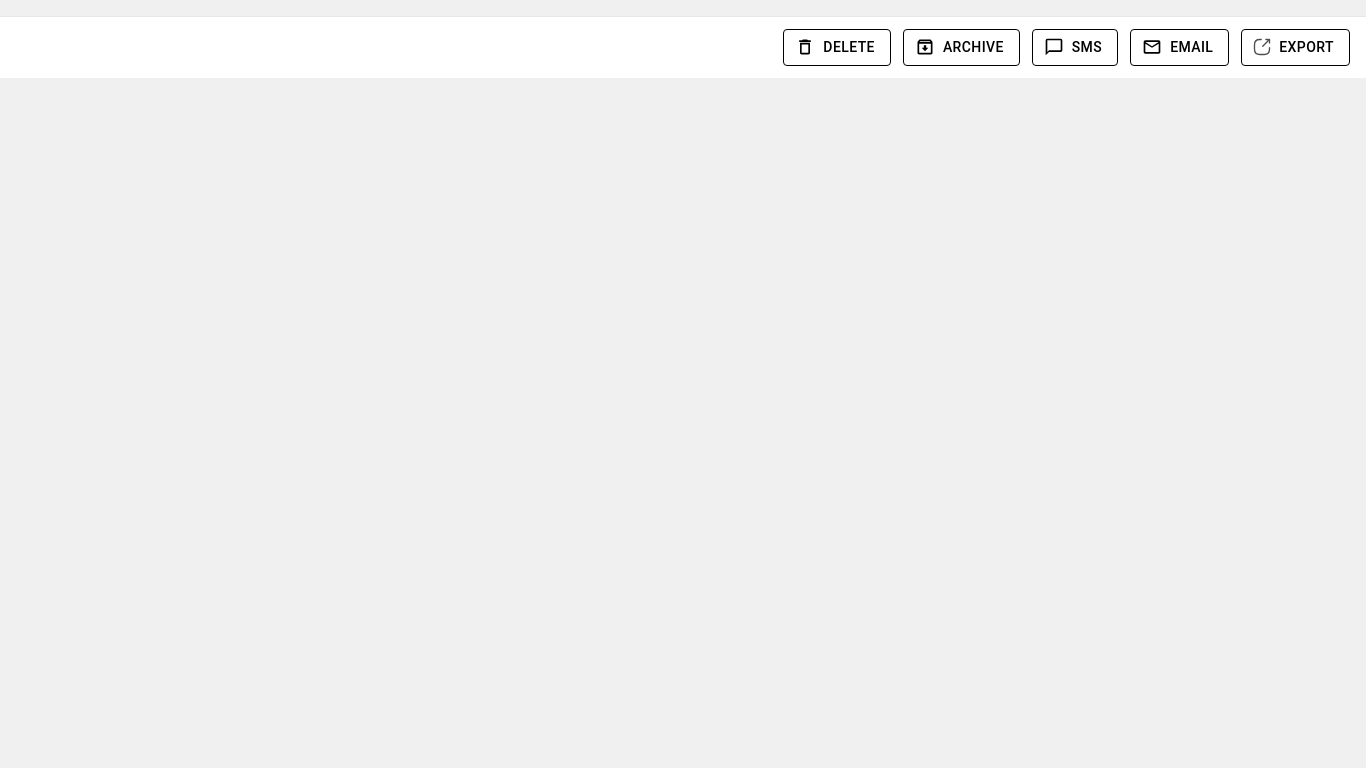
Test case: BulkActionBar › opens archive dialog
This screenshot has width=1366, height=768.
Click the button "Archive": click(961, 47) [903,29,1020,66]
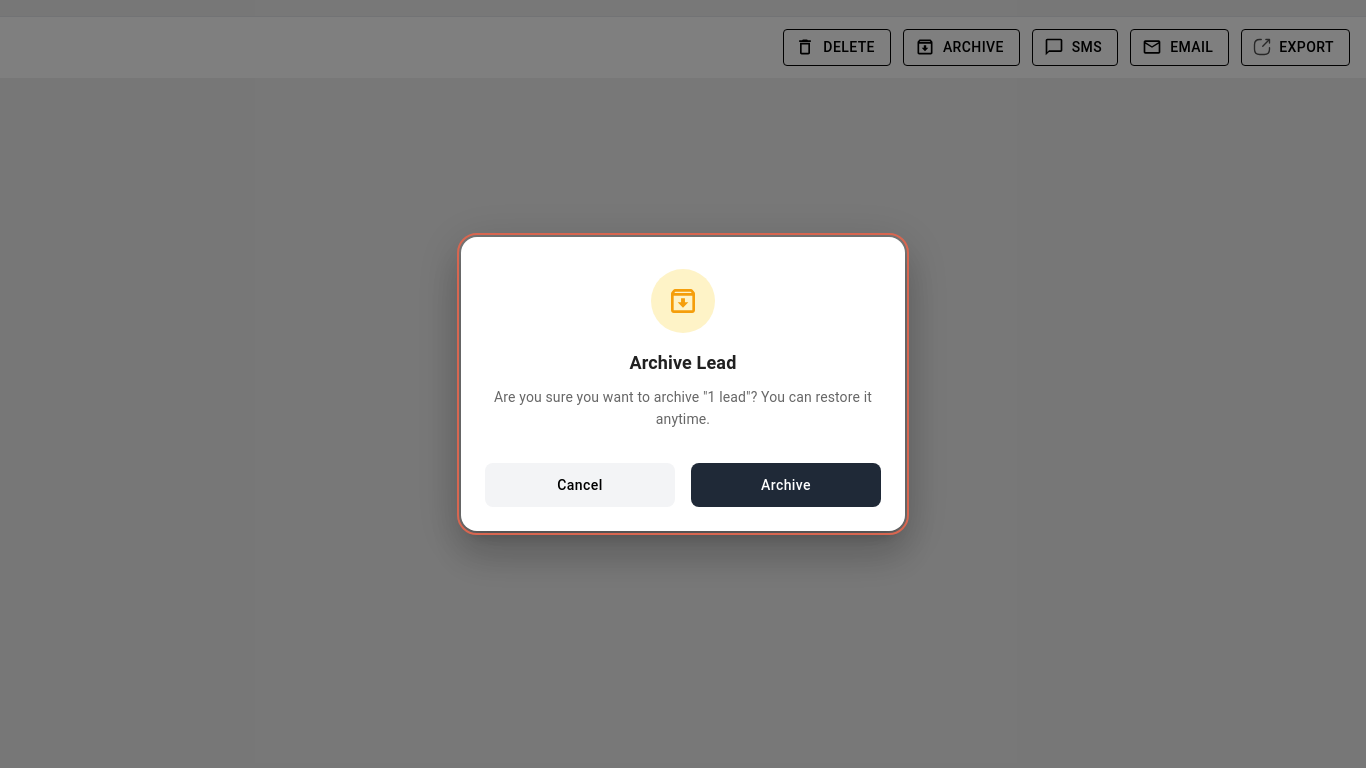
Expected: the dialog is shown, [461,237,905,531]
